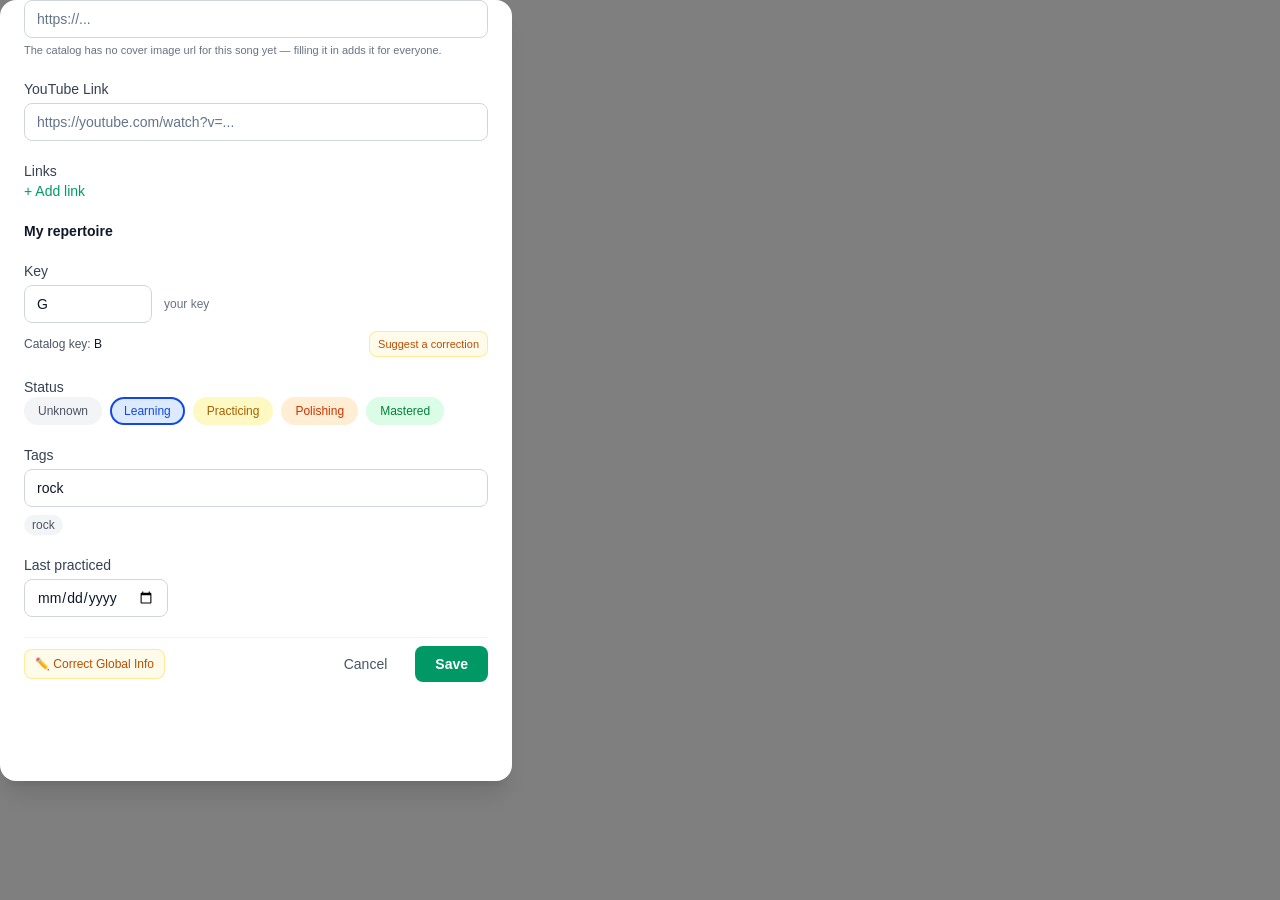
Test case: a refused save is reported, not swallowed (ER9) › names each refused column with its current and proposed value, and does not close
The image size is (1280, 900).
(page scrolled)
Click the button "Save".
click(452, 664)  # box 415,646 -> 488,682
(page scrolled)
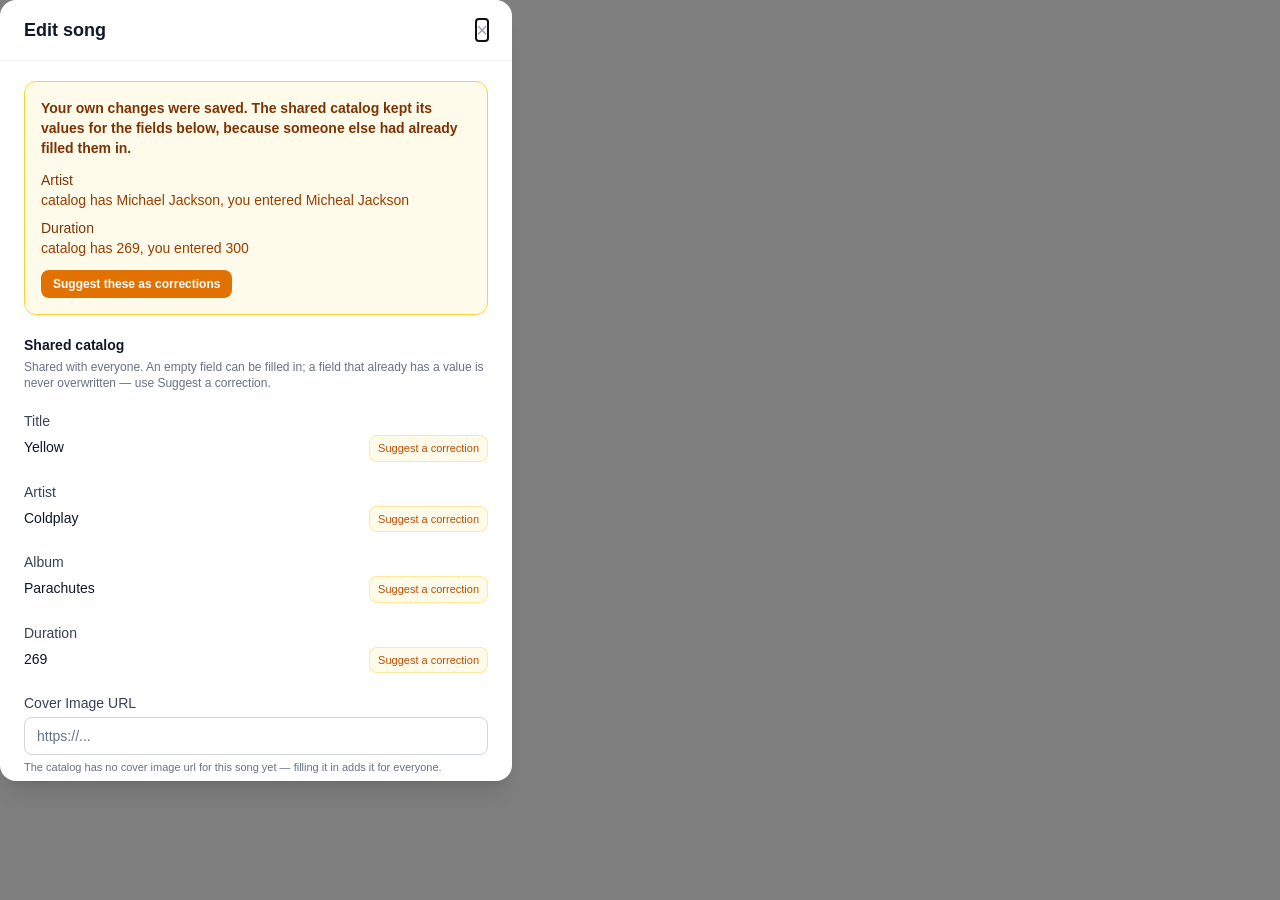
Result: the message shows "Your own changes were saved" at 41,100 -> 458,156
Result: the message shows "Artist" at 41,172 -> 73,188
Result: the message shows "catalog has Michael Jackson, you entered Micheal Jackson" at 24,81 -> 488,315
